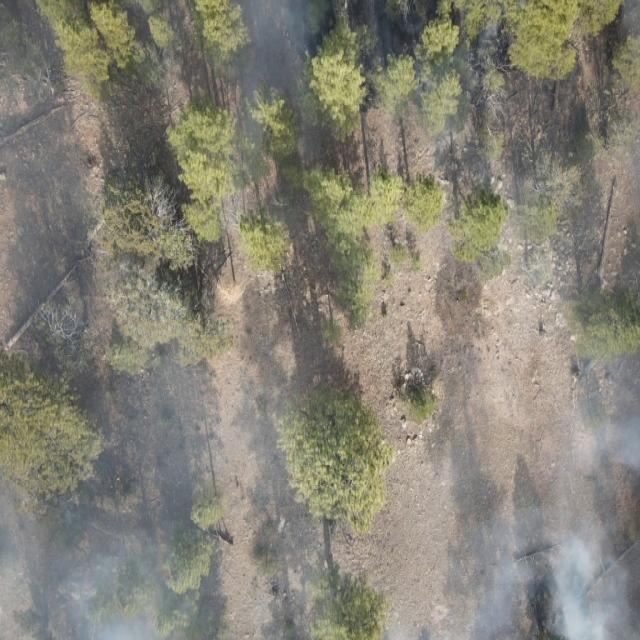smoke: (0, 346, 338, 640), (462, 351, 640, 640), (413, 0, 640, 206), (0, 0, 95, 346), (227, 0, 341, 211), (372, 614, 463, 640)
